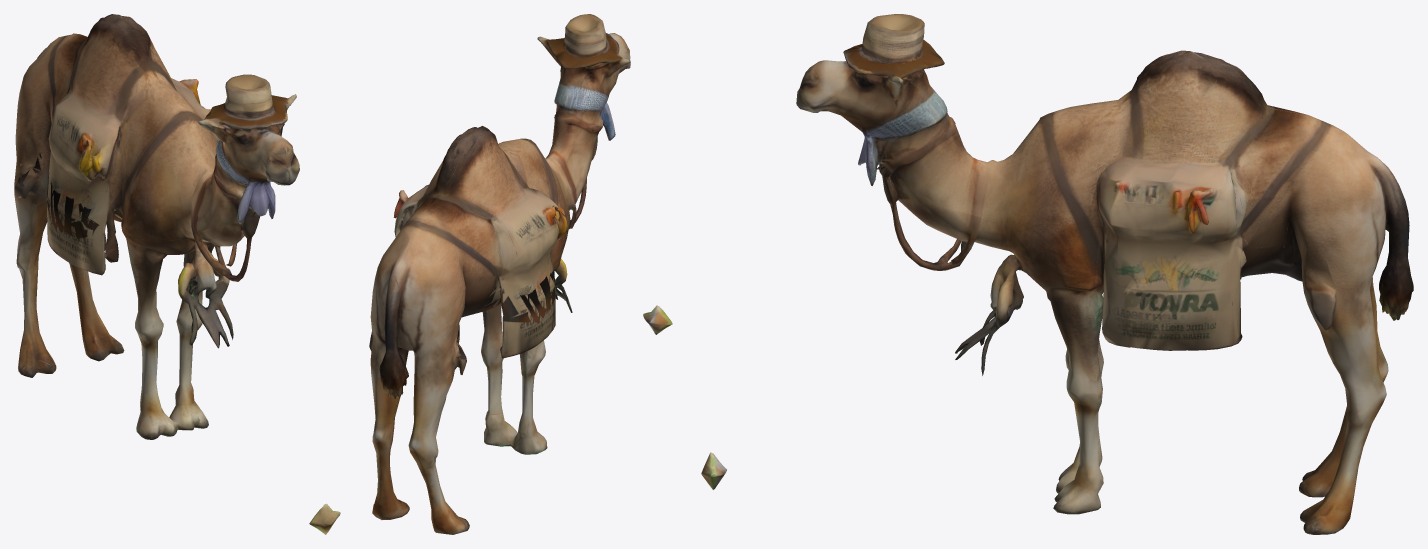
File: camel_standing.glb
3 views of the same model, side by side, from view 1: azimuth 30°, elevation 25°; view 2: azimuth 150°, elevation 25°; view 3: azimuth 270°, elevation 25° (orthographic). The views are drawn at different scales.
Visible parts, largest first — view 1: Mesh1.0; view 2: Mesh1.0; view 3: Mesh1.0.
Part boxes in pixels (box(x1,y1,x2,y2)): Mesh1.0: box(14, 14, 340, 534); Mesh1.0: box(369, 14, 672, 534); Mesh1.0: box(701, 14, 1413, 534).
Size of the model in its own units: 0.5841 by 1.52 by 2.01.
Materials: 1 (1 with a texture image).
